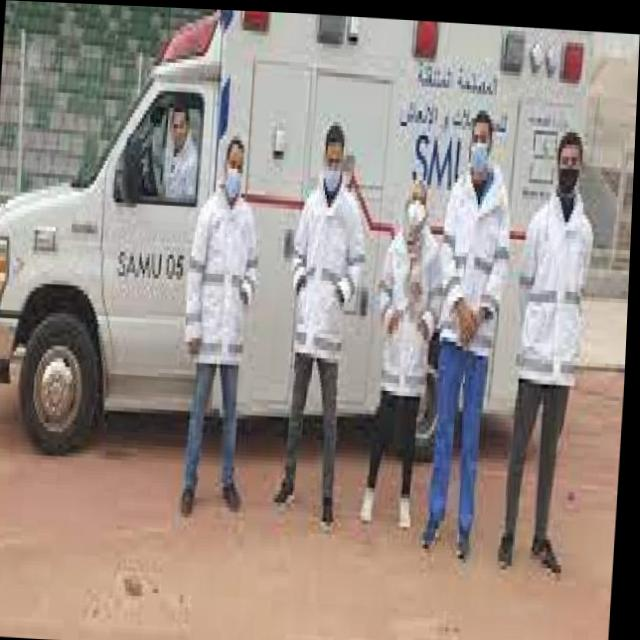ambulance: (0, 0, 598, 526)
